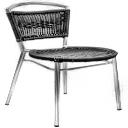chair_success: (2, 1, 128, 128)
